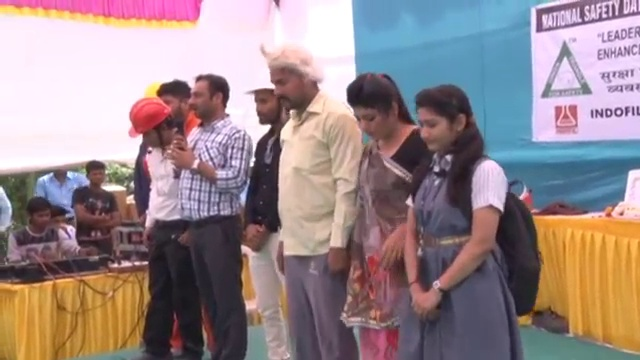helmet: (123, 97, 171, 138), (246, 63, 274, 96)
helmet_off: (342, 69, 416, 151), (410, 86, 480, 162), (266, 49, 322, 111), (186, 74, 230, 129), (19, 194, 56, 233), (159, 81, 193, 121), (82, 162, 104, 194)
helmet_on: (123, 96, 180, 154), (245, 64, 283, 128)
person: (402, 73, 538, 360), (259, 30, 361, 357), (170, 68, 254, 360), (347, 58, 422, 359), (123, 94, 206, 360), (242, 62, 299, 360), (5, 193, 97, 267), (71, 162, 121, 251), (35, 166, 89, 211)
